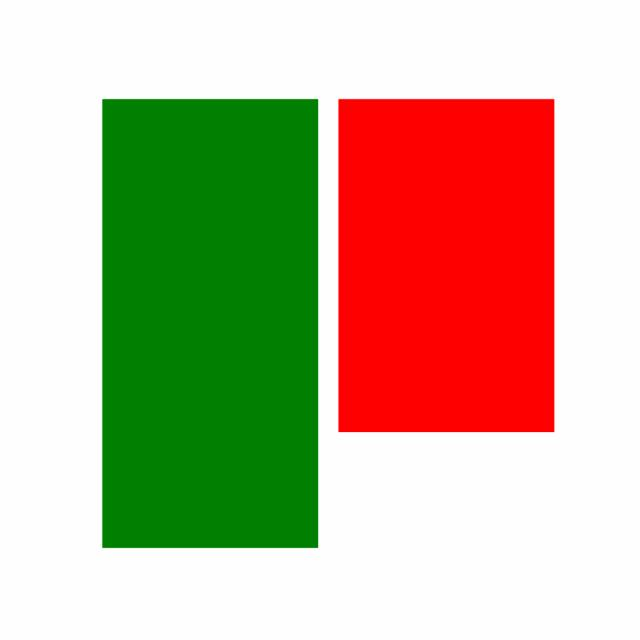Marubozu: (327, 95, 565, 436)
